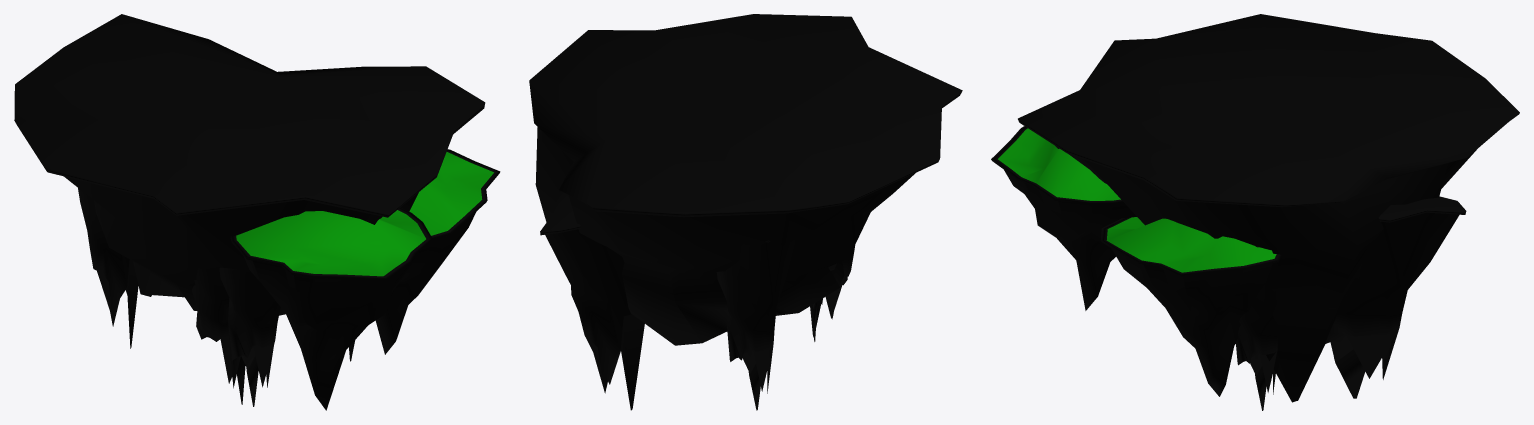
File: SM_Island_Medium.fbx
3 views of the same model, side by side, from view 1: azimuth 30°, elevation 25°; view 2: azimuth 150°, elevation 25°; view 3: azimuth 270°, elevation 25° (orthographic). The views are drawn at different scales.
Parts seen in each view (by area): view 1: Island_Medium; view 2: Island_Medium; view 3: Island_Medium.
Part boxes in pixels (bbox=[...]): Island_Medium: bbox=[14, 14, 500, 410]; Island_Medium: bbox=[529, 14, 962, 410]; Island_Medium: bbox=[991, 14, 1519, 410].
Size of the model in its own units: 809 by 535 by 946.
